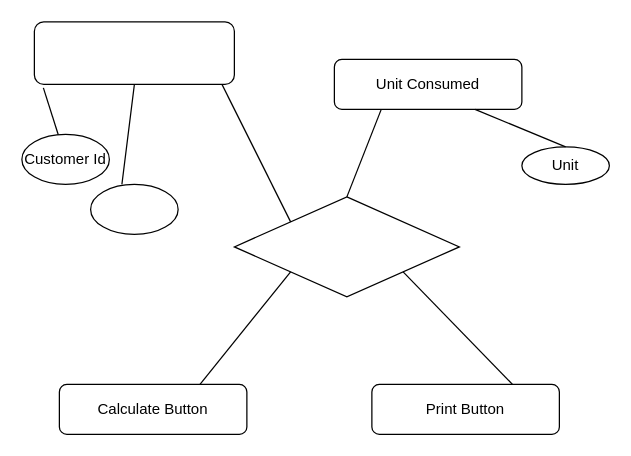
Some shapes in this 631 by 456 pixel diagram are drawn without their labels. The centre of each missing label's shape, as x and y in pixels:
"Customer Name" goes at (133,208).
"Electricity Billing System" goes at (346,246).
"Enter Customer Details" goes at (133,52).
